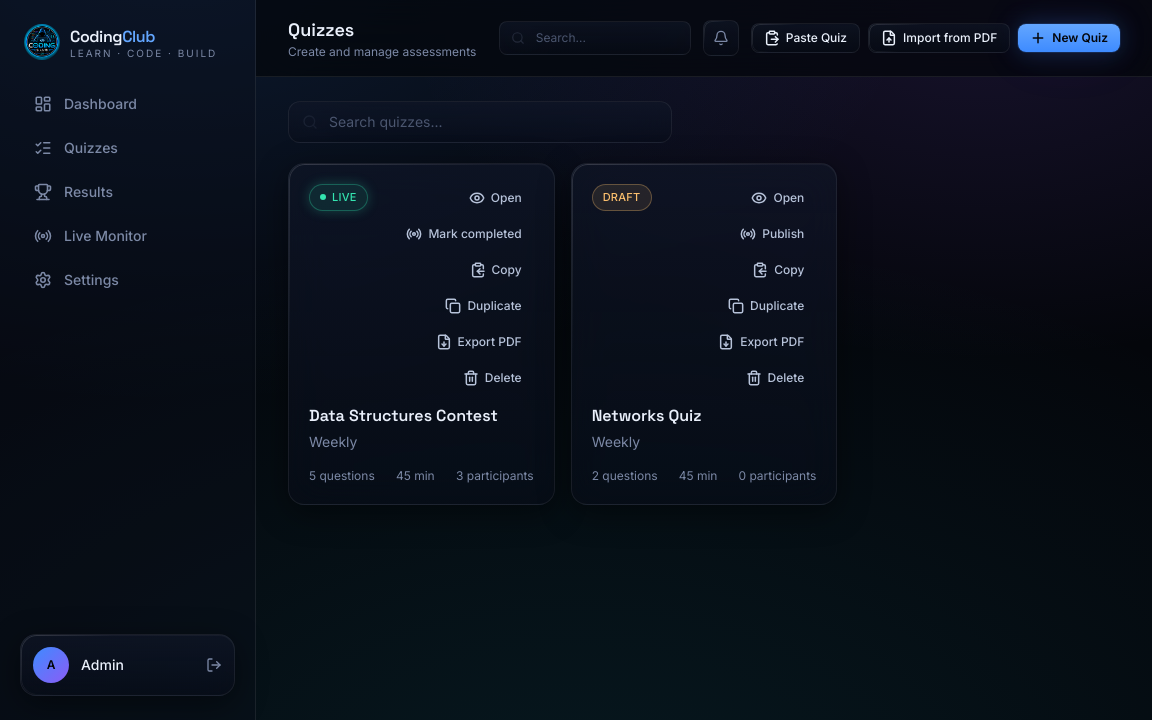
Test: Admin Quizzes — Copy Quiz / Paste Quiz › a failed copy shows an error and copies nothing
This screenshot has width=1152, height=720.
expect the heading "Data Structures Contest" is shown: met, box 309,404 -> 498,428
Click the 1st button "Copy": (496, 270) 458,256 -> 534,284
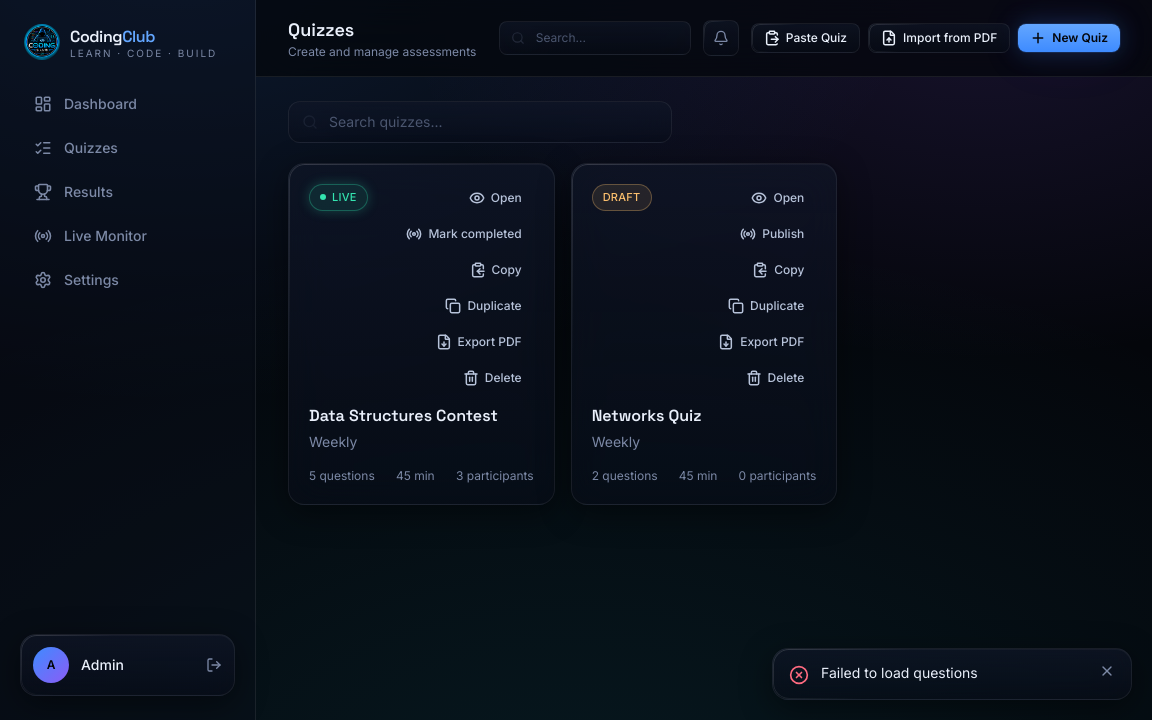
expect the text "Failed to load questions" is shown: met, box 821,664 -> 978,681
